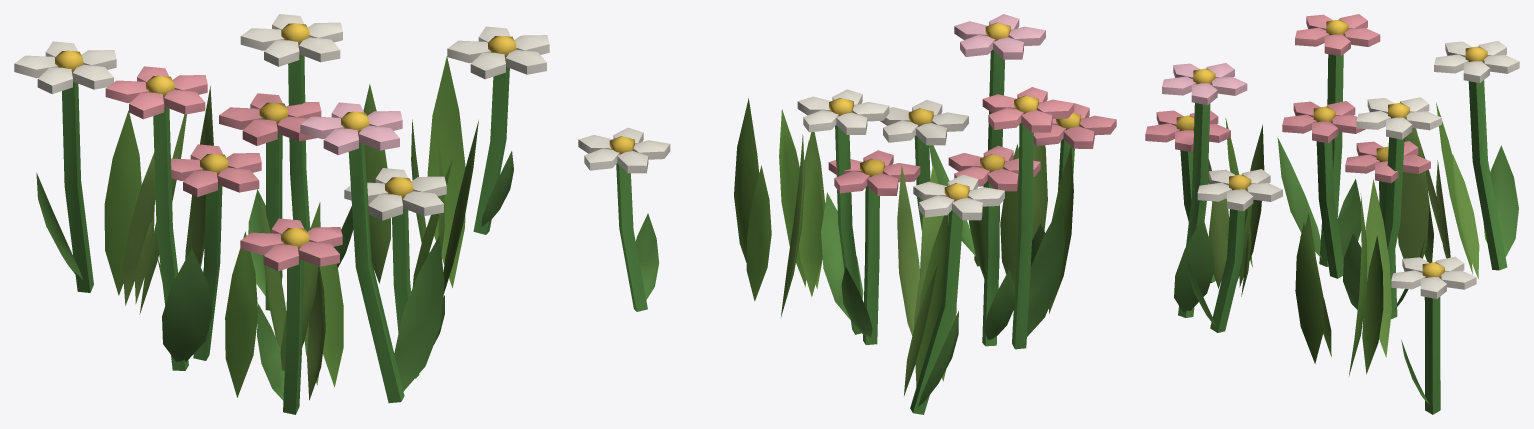
Rendered from flower_cluster.glb.
The picture shows the model from 3 angles, left to right: view 1: azimuth 30°, elevation 25°; view 2: azimuth 150°, elevation 25°; view 3: azimuth 270°, elevation 25°; orthographic projection. The views are drawn at different scales.
Visible parts, largest first — view 1: Flowers; view 2: Flowers; view 3: Flowers.
Boxes of the visible parts, bbox=[...] form: Flowers: bbox=[14, 14, 549, 414]; Flowers: bbox=[578, 14, 1116, 414]; Flowers: bbox=[1145, 14, 1519, 414].
Size of the model in its own units: 0.7256 by 0.411 by 0.5797.
